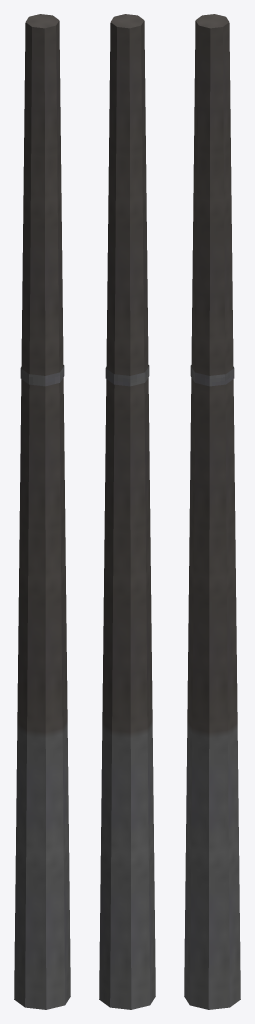
Rendered from pole.obj.
The picture shows the model from 3 angles, left to right: view 1: azimuth 30°, elevation 25°; view 2: azimuth 210°, elevation 25°; view 3: azimuth 330°, elevation 25°; orthographic projection.
Parts seen in each view (by area): view 1: RAIL_BASE, RAIL_LEFT; view 2: RAIL_BASE, RAIL_RIGHT; view 3: RAIL_BASE, RAIL_LEFT.
Boxes of the visible parts, <box> form: RAIL_BASE: <box>14,14,70,1009</box>; RAIL_LEFT: <box>24,365,64,386</box>; RAIL_BASE: <box>99,14,155,1009</box>; RAIL_RIGHT: <box>109,365,149,386</box>; RAIL_BASE: <box>184,14,240,1009</box>; RAIL_LEFT: <box>190,365,230,386</box>.
Bounding box in the file's own units: 0.4642 × 9.47 × 0.4642.
2 materials, 2 textured.
